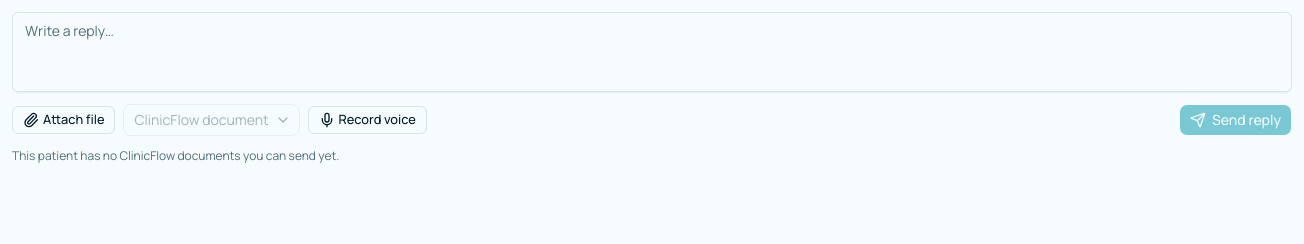
it: P8B Inbox composer › accepts an active alternate device after the default calibrates as silent
Click the button "Record voice".
click(367, 120)  # box x1=308 y1=106 x2=427 y2=134
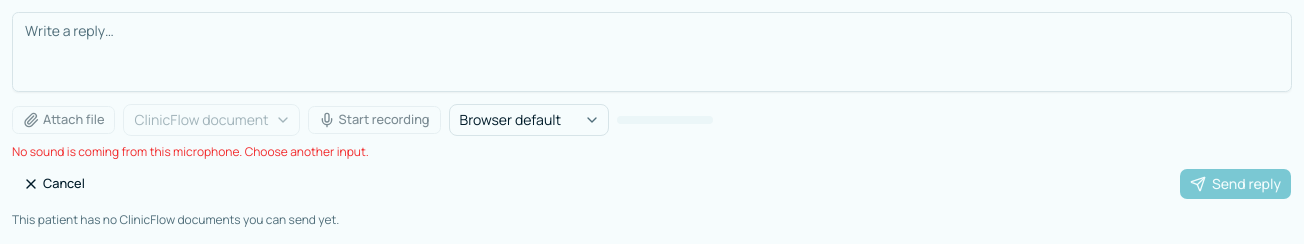
Expected: the text "No sound is coming from this microphone. Choose another input." is shown, x1=12 y1=143 x2=369 y2=160
Click the dropdown named "Microphone input".
click(528, 120)  # box x1=448 y1=104 x2=608 y2=136
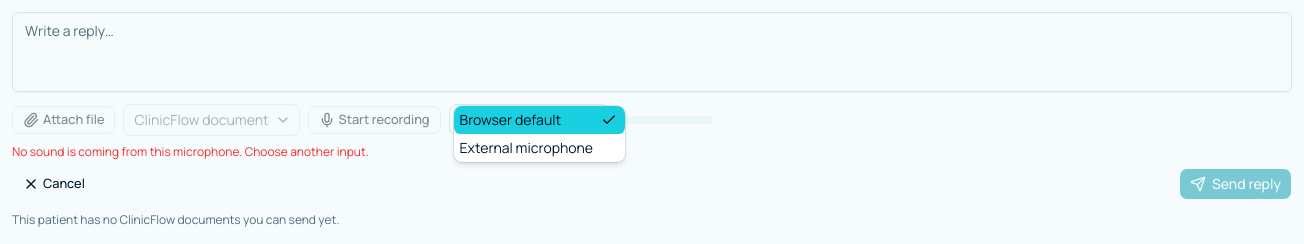
Click the option "External microphone".
click(526, 148)  # box x1=460 y1=138 x2=593 y2=157
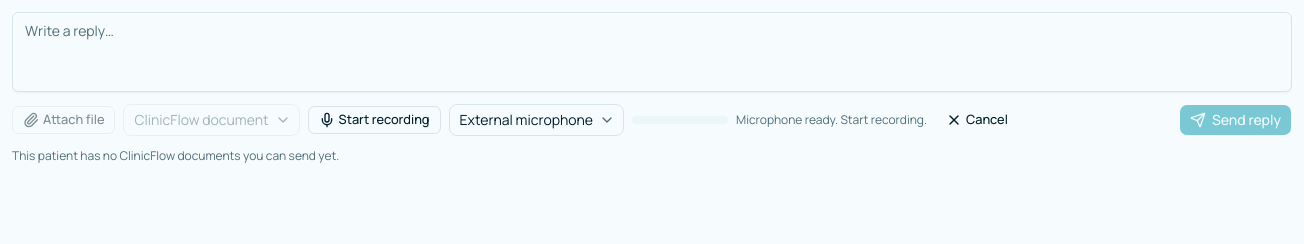
Expected: the text "Microphone ready. Start recording." is shown, x1=736 y1=112 x2=927 y2=128
Expected: the button "Start recording" is enabled, x1=308 y1=106 x2=441 y2=134
